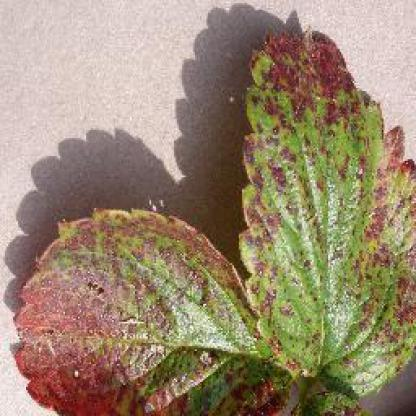leaf scorch: (10, 24, 414, 414)
